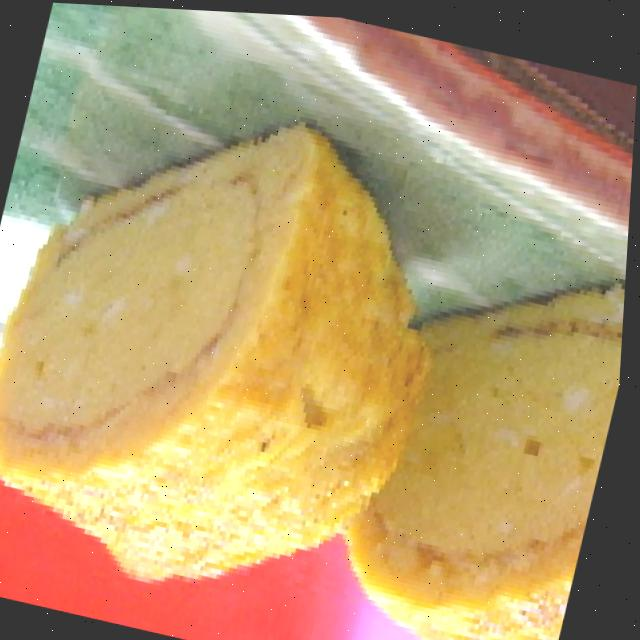鸡蛋料理: (0, 51, 638, 640)
